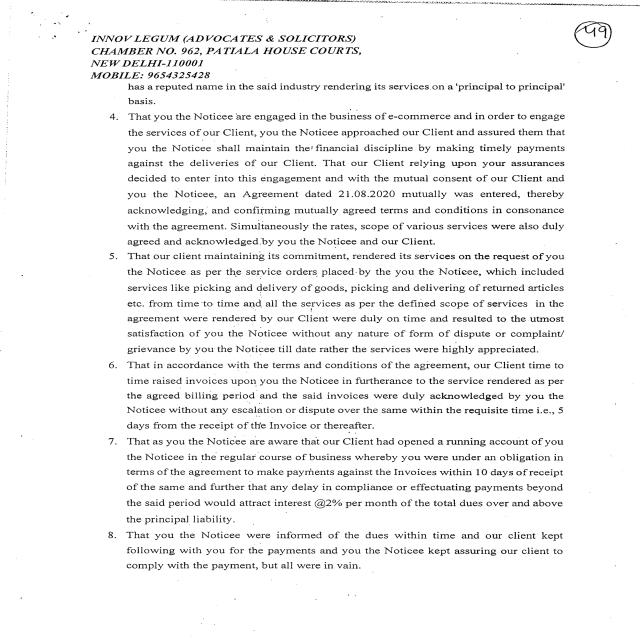page-number: (443, 9, 640, 67)
